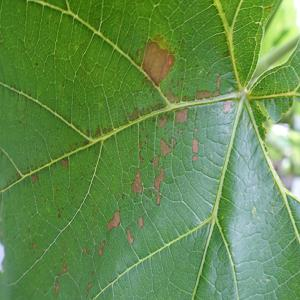Folha: (0, 0, 300, 299)
Fungo: (106, 105, 199, 244), (142, 38, 174, 86), (130, 168, 142, 195), (106, 209, 120, 232), (154, 165, 164, 191), (160, 138, 172, 158), (174, 107, 188, 124), (166, 86, 178, 103), (195, 89, 211, 100), (157, 114, 169, 128), (126, 228, 134, 244), (192, 137, 199, 153), (223, 100, 232, 112), (98, 240, 104, 256), (85, 280, 91, 296), (215, 74, 221, 90), (153, 156, 159, 170), (60, 157, 68, 167), (30, 173, 38, 183), (138, 215, 144, 228), (54, 280, 59, 294), (94, 126, 100, 136), (61, 264, 67, 274), (156, 192, 160, 206), (252, 205, 256, 218), (192, 154, 198, 161), (83, 246, 87, 254), (32, 243, 36, 248)
